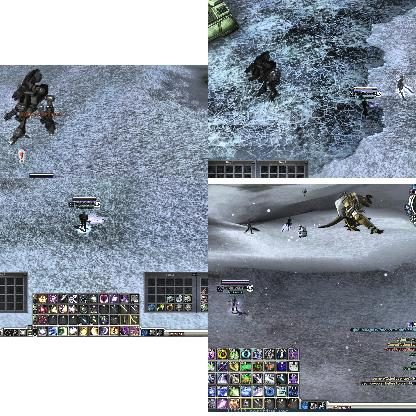caliana: (396, 75, 416, 99), (244, 218, 258, 234), (280, 216, 294, 232), (301, 188, 307, 197)
